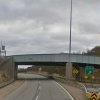Bridge: (16, 40, 94, 78)
